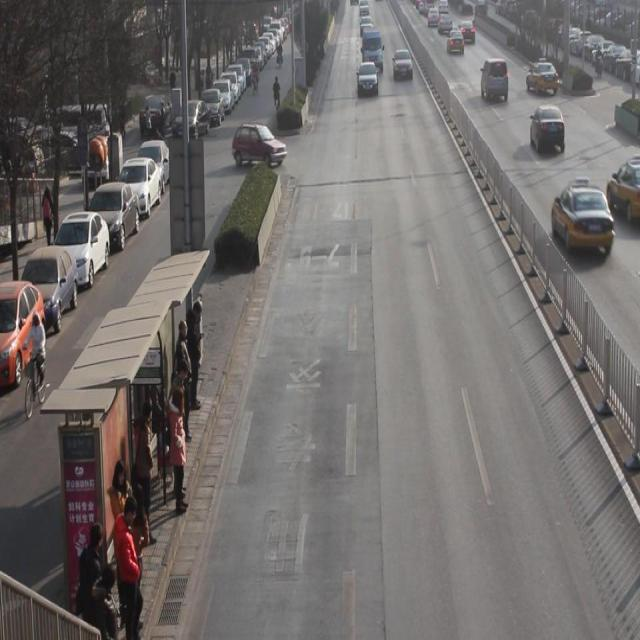bus: (362, 28, 385, 73)
car: (552, 177, 617, 258), (232, 121, 287, 169), (606, 159, 640, 215), (530, 106, 566, 156), (526, 58, 560, 96), (482, 61, 510, 103), (357, 63, 380, 99), (392, 48, 414, 84), (448, 27, 465, 58), (460, 20, 477, 46), (439, 14, 454, 36), (360, 15, 373, 38), (429, 7, 439, 26), (438, 1, 448, 17), (476, 2, 488, 15)
